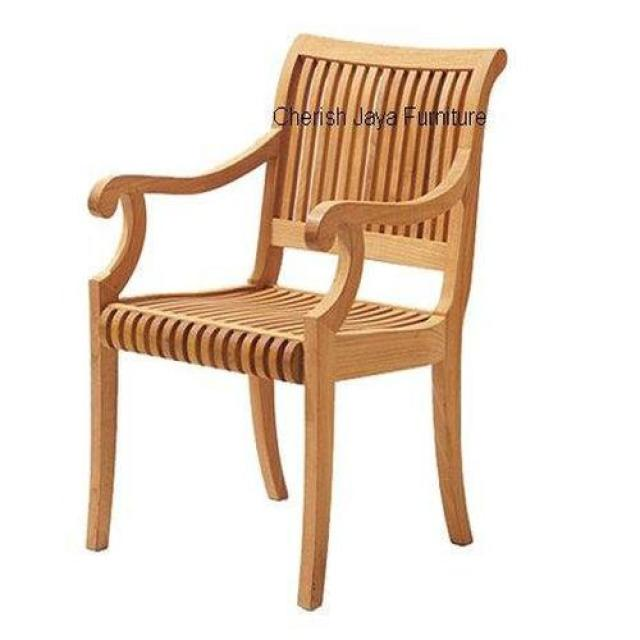chair: (86, 35, 508, 614)
